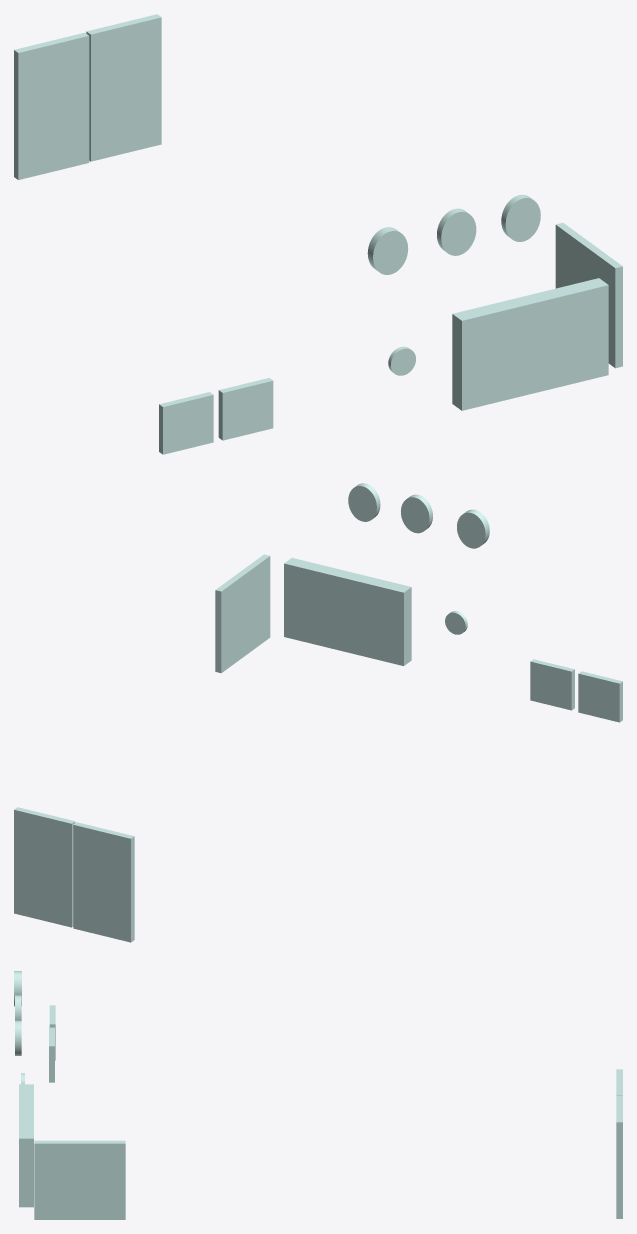
Rendered from vent_1.obj.
3 renders of one model, top to bottom at view 1: azimuth 30°, elevation 25°; view 2: azimuth 150°, elevation 25°; view 3: azimuth 270°, elevation 25°, orthographic. The views are drawn at different scales.
Visible parts, largest first — view 1: polySurface152; view 2: polySurface152; view 3: polySurface152.
Part boxes in pixels (<box>): polySurface152: <box>14,14,622,454</box>; polySurface152: <box>14,483,622,942</box>; polySurface152: <box>14,971,622,1219</box>.
Size of the model in its own units: 17.77 by 9.26 by 27.33.
